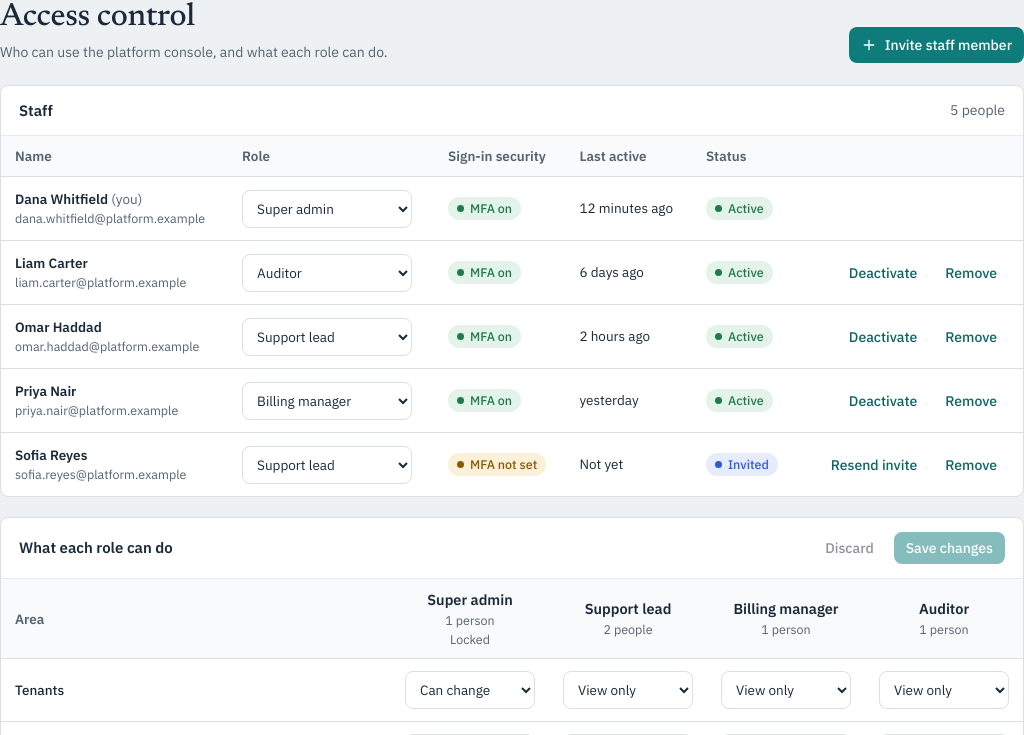
Test: Invite staff member: the dialog › has name, email and role, Support lead preselected, and the demo's description
Step 1. Click the button "Invite staff member" → (936, 45), box top-left (849, 27), bottom-right (1023, 63)
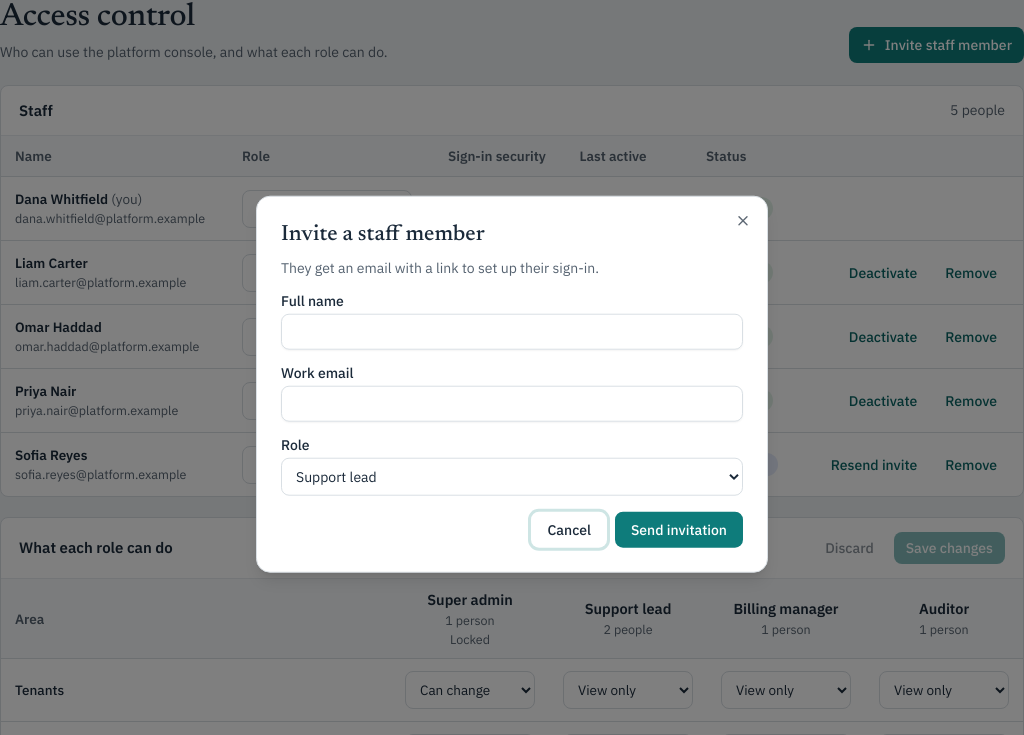
Expected: the text "They get an email with a link to set up their sign-in." is shown, top-left (281, 258), bottom-right (599, 276)
Expected: the field labelled "Full name" is empty, top-left (281, 313), bottom-right (743, 349)
Expected: the field labelled "Work email" is empty, top-left (281, 385), bottom-right (743, 421)
